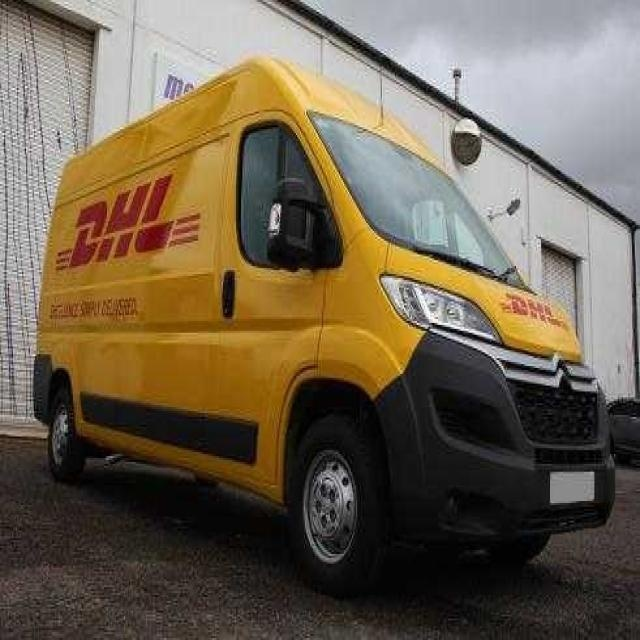Van: (34, 46, 620, 593)
